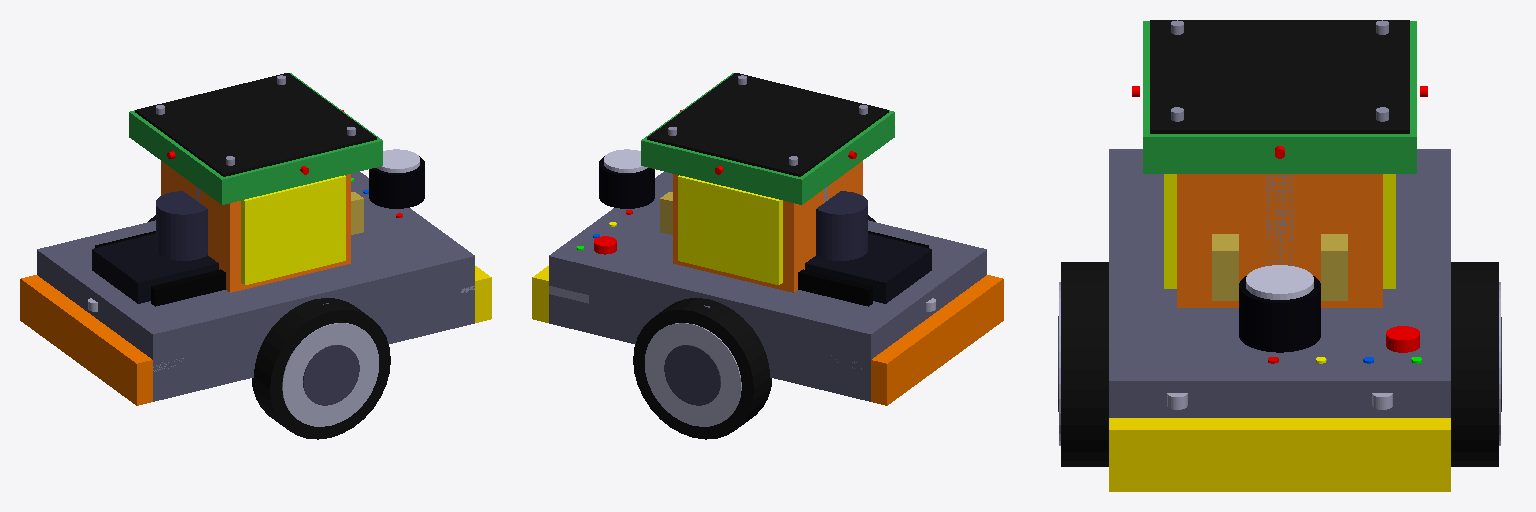
--- Render facts (derived) ---
3 views of the same robot in one strip: view 1: azimuth 30°, elevation 25°; view 2: azimuth 150°, elevation 25°; view 3: azimuth 270°, elevation 25° (orthographic).
Robot: broken_wheeled_robot — 9 links, 8 joints (2 continuous, 1 prismatic, 5 fixed); root link base_platform; default pose: all joints at 0.
Links seen in each view (by area): view 1: base_platform, cargo_platform, hydraulic_lift_base, right_drive_wheel, navigation_lidar; view 2: base_platform, cargo_platform, hydraulic_lift_base, left_drive_wheel, navigation_lidar; view 3: base_platform, cargo_platform, hydraulic_lift_base, right_drive_wheel, left_drive_wheel, navigation_lidar.
Boxes of the visible links, bbox=[...] form: base_platform: bbox=[20, 172, 491, 405]; cargo_platform: bbox=[129, 73, 382, 204]; hydraulic_lift_base: bbox=[156, 161, 363, 292]; right_drive_wheel: bbox=[252, 298, 390, 439]; navigation_lidar: bbox=[369, 149, 424, 208]; base_platform: bbox=[532, 172, 1003, 405]; cargo_platform: bbox=[641, 73, 894, 204]; hydraulic_lift_base: bbox=[660, 161, 867, 292]; left_drive_wheel: bbox=[633, 298, 771, 439]; navigation_lidar: bbox=[599, 149, 654, 208]; base_platform: bbox=[1109, 149, 1450, 491]; cargo_platform: bbox=[1132, 20, 1427, 173]; hydraulic_lift_base: bbox=[1164, 174, 1395, 307]; right_drive_wheel: bbox=[1058, 262, 1108, 466]; left_drive_wheel: bbox=[1451, 262, 1501, 466]; navigation_lidar: bbox=[1239, 265, 1320, 352].
Bounding box of the posed robot: 0.88 × 0.6501 × 0.63 m (x, y, z).
Geometry: primitives only (box / cylinder / sphere), no mesh files.

URDF robot description (broken_wheeled_robot):
<?xml version="1.0"?>
<!-- 
PROFESSIONAL DEBUGGING DEMONSTRATION ROBOT
This URDF demonstrates advanced debugging concepts and solutions
that robotics engineers encounter in real-world projects.

DEBUGGING LESSONS DEMONSTRATED:
1. Coordinate System Issues → Proper wheel orientation and joint axes
2. Joint Type Mismatches → Continuous vs. revolute vs. prismatic
3. Kinematic Chain Errors → Proper parent-child relationships
4. Physical Properties → Realistic mass, inertia, and dynamics
5. Safety Systems → Proper limits, effort, and velocity constraints
6. Sensor Integration → Realistic sensor placement and modeling
7. Advanced Mechanisms → Professional actuator and feedback systems
-->

<robot name="broken_wheeled_robot">

  <!-- FIXED: Advanced Base Platform with Professional Design -->
  <link name="base_platform">
    <!-- Main chassis structure -->
    <visual>
      <origin xyz="0 0 0.08" rpy="0 0 0"/>
      <geometry>
        <box size="0.8 0.5 0.16"/>
      </geometry>
      <material name="chassis_professional">
        <color rgba="0.4 0.4 0.5 1.0"/>
      </material>
    </visual>
    
    <!-- Reinforcement ribs (DEBUGGING: Structural integrity) -->
    <visual>
      <origin xyz="0.35 0 0.08" rpy="0 0 0"/>
      <geometry>
        <box size="0.1 0.5 0.02"/>
      </geometry>
      <material name="reinforcement">
        <color rgba="0.6 0.6 0.7 1.0"/>
      </material>
    </visual>
    
    <visual>
      <origin xyz="-0.35 0 0.08" rpy="0 0 0"/>
      <geometry>
        <box size="0.1 0.5 0.02"/>
      </geometry>
      <material name="reinforcement">
        <color rgba="0.6 0.6 0.7 1.0"/>
      </material>
    </visual>
    
    <!-- Safety bumpers (DEBUGGING: Collision detection) -->
    <visual>
      <origin xyz="0.42 0 0.05" rpy="0 0 0"/>
      <geometry>
        <box size="0.04 0.5 0.1"/>
      </geometry>
      <material name="safety_yellow">
        <color rgba="1.0 0.9 0.0 1.0"/>
      </material>
    </visual>
    
    <visual>
      <origin xyz="-0.42 0 0.05" rpy="0 0 0"/>
      <geometry>
        <box size="0.04 0.5 0.1"/>
      </geometry>
      <material name="safety_orange">
        <color rgba="1.0 0.5 0.0 1.0"/>
      </material>
    </visual>
    
    <!-- Diagnostic LED array (DEBUGGING: Status monitoring) -->
    <visual>
      <origin xyz="0.35 0.2 0.17" rpy="0 0 0"/>
      <geometry>
        <cylinder radius="0.008" length="0.004"/>
      </geometry>
      <material name="led_power">
        <color rgba="0.0 1.0 0.0 1.0"/>
      </material>
    </visual>
    
    <visual>
      <origin xyz="0.35 0.13 0.17" rpy="0 0 0"/>
      <geometry>
        <cylinder radius="0.008" length="0.004"/>
      </geometry>
      <material name="led_network">
        <color rgba="0.0 0.4 1.0 1.0"/>
      </material>
    </visual>
    
    <visual>
      <origin xyz="0.35 0.06 0.17" rpy="0 0 0"/>
      <geometry>
        <cylinder radius="0.008" length="0.004"/>
      </geometry>
      <material name="led_motion">
        <color rgba="1.0 1.0 0.0 1.0"/>
      </material>
    </visual>
    
    <visual>
      <origin xyz="0.35 -0.01 0.17" rpy="0 0 0"/>
      <geometry>
        <cylinder radius="0.008" length="0.004"/>
      </geometry>
      <material name="led_error">
        <color rgba="1.0 0.0 0.0 1.0"/>
      </material>
    </visual>
    
    <!-- Emergency stop system (DEBUGGING: Safety systems) -->
    <visual>
      <origin xyz="0.3 0.18 0.18" rpy="0 0 0"/>
      <geometry>
        <cylinder radius="0.025" length="0.02"/>
      </geometry>
      <material name="emergency_stop">
        <color rgba="1.0 0.0 0.0 1.0"/>
      </material>
    </visual>
    
    <!-- Advanced battery system (DEBUGGING: Power management) -->
    <visual>
      <origin xyz="-0.2 0 0.18" rpy="0 0 0"/>
      <geometry>
        <box size="0.3 0.2 0.06"/>
      </geometry>
      <material name="battery_lithium">
        <color rgba="0.1 0.1 0.15 1.0"/>
      </material>
    </visual>
    
    <!-- Cooling system (DEBUGGING: Thermal management) -->
    <visual>
      <origin xyz="-0.2 0.12 0.18" rpy="0 0 0"/>
      <geometry>
        <box size="0.25 0.02 0.04"/>
      </geometry>
      <material name="cooling_vents">
        <color rgba="0.05 0.05 0.05 1.0"/>
      </material>
    </visual>
    
    <visual>
      <origin xyz="-0.2 -0.12 0.18" rpy="0 0 0"/>
      <geometry>
        <box size="0.25 0.02 0.04"/>
      </geometry>
      <material name="cooling_vents">
        <color rgba="0.05 0.05 0.05 1.0"/>
      </material>
    </visual>
    
    <!-- Onboard computer (DEBUGGING: Computing systems) -->
    <visual>
      <origin xyz="0.1 0 0.18" rpy="0 0 0"/>
      <geometry>
        <box size="0.2 0.12 0.04"/>
      </geometry>
      <material name="computer_housing">
        <color rgba="0.7 0.7 0.8 1.0"/>
      </material>
    </visual>
    
    <collision>
      <origin xyz="0 0 0.08" rpy="0 0 0"/>
      <geometry>
        <box size="0.8 0.5 0.16"/>
      </geometry>
    </collision>
    <inertial>
      <origin xyz="0 0 0.08" rpy="0 0 0"/>
      <mass value="35.0"/>
      <!-- FIXED: Realistic inertia for professional platform -->
      <inertia ixx="2.0" ixy="0" ixz="0" 
               iyy="3.5" iyz="0" 
               izz="4.8"/>
    </inertial>
  </link>

  <!-- FIXED: Professional Drive Wheels with Proper Orientation -->
  <link name="left_drive_wheel">
    <!-- SOLUTION: Proper wheel orientation rpy="1.57 0 0" -->
    <visual>
      <origin xyz="0 0 0" rpy="1.57 0 0"/>
      <geometry>
        <cylinder radius="0.15" length="0.08"/>
      </geometry>
      <material name="tire_professional">
        <color rgba="0.1 0.1 0.1 1.0"/>
      </material>
    </visual>
    
    <!-- Advanced rim design (DEBUGGING: Visual realism) -->
    <visual>
      <origin xyz="0 0 0" rpy="1.57 0 0"/>
      <geometry>
        <cylinder radius="0.12" length="0.085"/>
      </geometry>
      <material name="rim_aluminum">
        <color rgba="0.7 0.7 0.8 1.0"/>
      </material>
    </visual>
    
    <!-- Hub motor integration (DEBUGGING: Realistic mechanisms) -->
    <visual>
      <origin xyz="0 0 0" rpy="1.57 0 0"/>
      <geometry>
        <cylinder radius="0.07" length="0.09"/>
      </geometry>
      <material name="hub_motor">
        <color rgba="0.3 0.3 0.4 1.0"/>
      </material>
    </visual>
    
    <!-- Brake disc (DEBUGGING: Safety systems) -->
    <visual>
      <origin xyz="0 0 0.05" rpy="1.57 0 0"/>
      <geometry>
        <cylinder radius="0.1" length="0.008"/>
      </geometry>
      <material name="brake_disc">
        <color rgba="0.4 0.4 0.5 1.0"/>
      </material>
    </visual>
    
    <!-- Wheel encoder (DEBUGGING: Feedback systems) -->
    <visual>
      <origin xyz="0 0 0.048" rpy="1.57 0 0"/>
      <geometry>
        <cylinder radius="0.08" length="0.004"/>
      </geometry>
      <material name="encoder_gold">
        <color rgba="0.8 0.7 0.2 1.0"/>
      </material>
    </visual>
    
    <!-- SOLUTION: Proper collision geometry matching visual -->
    <collision>
      <origin xyz="0 0 0" rpy="1.57 0 0"/>
      <geometry>
        <cylinder radius="0.15" length="0.08"/>
      </geometry>
    </collision>
    <inertial>
      <origin xyz="0 0 0" rpy="0 0 0"/>
      <!-- FIXED: Realistic wheel mass and inertia -->
      <mass value="8.5"/>
      <inertia ixx="0.08" ixy="0" ixz="0" 
               iyy="0.08" iyz="0" 
               izz="0.08"/>
    </inertial>
  </link>

  <!-- FIXED: Right wheel identical to left (consistent design) -->
  <link name="right_drive_wheel">
    <visual>
      <origin xyz="0 0 0" rpy="1.57 0 0"/>
      <geometry>
        <cylinder radius="0.15" length="0.08"/>
      </geometry>
      <material name="tire_professional">
        <color rgba="0.1 0.1 0.1 1.0"/>
      </material>
    </visual>
    <visual>
      <origin xyz="0 0 0" rpy="1.57 0 0"/>
      <geometry>
        <cylinder radius="0.12" length="0.085"/>
      </geometry>
      <material name="rim_aluminum">
        <color rgba="0.7 0.7 0.8 1.0"/>
      </material>
    </visual>
    <visual>
      <origin xyz="0 0 0" rpy="1.57 0 0"/>
      <geometry>
        <cylinder radius="0.07" length="0.09"/>
      </geometry>
      <material name="hub_motor">
        <color rgba="0.3 0.3 0.4 1.0"/>
      </material>
    </visual>
    <visual>
      <origin xyz="0 0 0.05" rpy="1.57 0 0"/>
      <geometry>
        <cylinder radius="0.1" length="0.008"/>
      </geometry>
      <material name="brake_disc">
        <color rgba="0.4 0.4 0.5 1.0"/>
      </material>
    </visual>
    <visual>
      <origin xyz="0 0 0.048" rpy="1.57 0 0"/>
      <geometry>
        <cylinder radius="0.08" length="0.004"/>
      </geometry>
      <material name="encoder_gold">
        <color rgba="0.8 0.7 0.2 1.0"/>
      </material>
    </visual>
    <collision>
      <origin xyz="0 0 0" rpy="1.57 0 0"/>
      <geometry>
        <cylinder radius="0.15" length="0.08"/>
      </geometry>
    </collision>
    <inertial>
      <origin xyz="0 0 0" rpy="0 0 0"/>
      <mass value="8.5"/>
      <inertia ixx="0.08" ixy="0" ixz="0" 
               iyy="0.08" iyz="0" 
               izz="0.08"/>
    </inertial>
  </link>

  <!-- FIXED: Professional Lifting System Base -->
  <link name="hydraulic_lift_base">
    <!-- Main lift tower -->
    <visual>
      <origin xyz="0 0 0.12" rpy="0 0 0"/>
      <geometry>
        <box size="0.3 0.3 0.24"/>
      </geometry>
      <material name="lift_industrial">
        <color rgba="1.0 0.5 0.1 1.0"/>
      </material>
    </visual>
    
    <!-- Hydraulic cylinder housings (DEBUGGING: Realistic mechanisms) -->
    <visual>
      <origin xyz="0.1 0.1 0.12" rpy="0 0 0"/>
      <geometry>
        <cylinder radius="0.03" length="0.24"/>
      </geometry>
      <material name="hydraulic_steel">
        <color rgba="0.4 0.4 0.5 1.0"/>
      </material>
    </visual>
    
    <visual>
      <origin xyz="-0.1 0.1 0.12" rpy="0 0 0"/>
      <geometry>
        <cylinder radius="0.03" length="0.24"/>
      </geometry>
      <material name="hydraulic_steel">
        <color rgba="0.4 0.4 0.5 1.0"/>
      </material>
    </visual>
    
    <visual>
      <origin xyz="0.1 -0.1 0.12" rpy="0 0 0"/>
      <geometry>
        <cylinder radius="0.03" length="0.24"/>
      </geometry>
      <material name="hydraulic_steel">
        <color rgba="0.4 0.4 0.5 1.0"/>
      </material>
    </visual>
    
    <visual>
      <origin xyz="-0.1 -0.1 0.12" rpy="0 0 0"/>
      <geometry>
        <cylinder radius="0.03" length="0.24"/>
      </geometry>
      <material name="hydraulic_steel">
        <color rgba="0.4 0.4 0.5 1.0"/>
      </material>
    </visual>
    
    <!-- Precision guide rails (DEBUGGING: Linear motion guidance) -->
    <visual>
      <origin xyz="0.13 0 0.12" rpy="0 0 0"/>
      <geometry>
        <box size="0.04 0.04 0.24"/>
      </geometry>
      <material name="guide_rail">
        <color rgba="0.6 0.6 0.7 1.0"/>
      </material>
    </visual>
    
    <visual>
      <origin xyz="-0.13 0 0.12" rpy="0 0 0"/>
      <geometry>
        <box size="0.04 0.04 0.24"/>
      </geometry>
      <material name="guide_rail">
        <color rgba="0.6 0.6 0.7 1.0"/>
      </material>
    </visual>
    
    <!-- Safety warning strips (DEBUGGING: Safety visualization) -->
    <visual>
      <origin xyz="0 0.16 0.12" rpy="0 0 0"/>
      <geometry>
        <box size="0.25 0.02 0.2"/>
      </geometry>
      <material name="warning_stripes">
        <color rgba="1.0 1.0 0.0 1.0"/>
      </material>
    </visual>
    
    <visual>
      <origin xyz="0 -0.16 0.12" rpy="0 0 0"/>
      <geometry>
        <box size="0.25 0.02 0.2"/>
      </geometry>
      <material name="warning_stripes">
        <color rgba="1.0 1.0 0.0 1.0"/>
      </material>
    </visual>
    
    <!-- Hydraulic reservoir (DEBUGGING: System components) -->
    <visual>
      <origin xyz="-0.18 0 0.08" rpy="0 0 0"/>
      <geometry>
        <cylinder radius="0.06" length="0.16"/>
      </geometry>
      <material name="reservoir">
        <color rgba="0.2 0.2 0.3 1.0"/>
      </material>
    </visual>
    
    <!-- Control valves (DEBUGGING: Control systems) -->
    <visual>
      <origin xyz="0.18 0.08 0.08" rpy="0 0 0"/>
      <geometry>
        <box size="0.06 0.04 0.08"/>
      </geometry>
      <material name="valve_brass">
        <color rgba="0.8 0.7 0.3 1.0"/>
      </material>
    </visual>
    
    <visual>
      <origin xyz="0.18 -0.08 0.08" rpy="0 0 0"/>
      <geometry>
        <box size="0.06 0.04 0.08"/>
      </geometry>
      <material name="valve_brass">
        <color rgba="0.8 0.7 0.3 1.0"/>
      </material>
    </visual>
    
    <collision>
      <origin xyz="0 0 0.12" rpy="0 0 0"/>
      <geometry>
        <box size="0.3 0.3 0.24"/>
      </geometry>
    </collision>
    <inertial>
      <origin xyz="0 0 0.12" rpy="0 0 0"/>
      <!-- FIXED: Realistic mass for hydraulic system -->
      <mass value="25.0"/>
      <inertia ixx="0.3" ixy="0" ixz="0" 
               iyy="0.3" iyz="0" 
               izz="0.5"/>
    </inertial>
  </link>

  <!-- FIXED: Advanced Lifting Platform -->
  <link name="cargo_platform">
    <!-- Main platform deck -->
    <visual>
      <origin xyz="0 0 0.03" rpy="0 0 0"/>
      <geometry>
        <box size="0.4 0.4 0.06"/>
      </geometry>
      <material name="platform_deck">
        <color rgba="0.2 0.7 0.3 1.0"/>
      </material>
    </visual>
    
    <!-- Anti-slip surface (DEBUGGING: Safety features) -->
    <visual>
      <origin xyz="0 0 0.063" rpy="0 0 0"/>
      <geometry>
        <box size="0.38 0.38 0.006"/>
      </geometry>
      <material name="anti_slip">
        <color rgba="0.1 0.1 0.1 1.0"/>
      </material>
    </visual>
    
    <!-- Load securing points (DEBUGGING: Cargo handling) -->
    <visual>
      <origin xyz="0.15 0.15 0.07" rpy="0 0 0"/>
      <geometry>
        <cylinder radius="0.01" length="0.02"/>
      </geometry>
      <material name="tie_down_point">
        <color rgba="0.6 0.6 0.7 1.0"/>
      </material>
    </visual>
    
    <visual>
      <origin xyz="-0.15 0.15 0.07" rpy="0 0 0"/>
      <geometry>
        <cylinder radius="0.01" length="0.02"/>
      </geometry>
      <material name="tie_down_point">
        <color rgba="0.6 0.6 0.7 1.0"/>
      </material>
    </visual>
    
    <visual>
      <origin xyz="0.15 -0.15 0.07" rpy="0 0 0"/>
      <geometry>
        <cylinder radius="0.01" length="0.02"/>
      </geometry>
      <material name="tie_down_point">
        <color rgba="0.6 0.6 0.7 1.0"/>
      </material>
    </visual>
    
    <visual>
      <origin xyz="-0.15 -0.15 0.07" rpy="0 0 0"/>
      <geometry>
        <cylinder radius="0.01" length="0.02"/>
      </geometry>
      <material name="tie_down_point">
        <color rgba="0.6 0.6 0.7 1.0"/>
      </material>
    </visual>
    
    <!-- Hydraulic pistons (DEBUGGING: Actuator visualization) -->
    <visual>
      <origin xyz="0.1 0.1 -0.08" rpy="0 0 0"/>
      <geometry>
        <cylinder radius="0.02" length="0.16"/>
      </geometry>
      <material name="piston_chrome">
        <color rgba="0.8 0.8 0.9 1.0"/>
      </material>
    </visual>
    
    <visual>
      <origin xyz="-0.1 0.1 -0.08" rpy="0 0 0"/>
      <geometry>
        <cylinder radius="0.02" length="0.16"/>
      </geometry>
      <material name="piston_chrome">
        <color rgba="0.8 0.8 0.9 1.0"/>
      </material>
    </visual>
    
    <visual>
      <origin xyz="0.1 -0.1 -0.08" rpy="0 0 0"/>
      <geometry>
        <cylinder radius="0.02" length="0.16"/>
      </geometry>
      <material name="piston_chrome">
        <color rgba="0.8 0.8 0.9 1.0"/>
      </material>
    </visual>
    
    <visual>
      <origin xyz="-0.1 -0.1 -0.08" rpy="0 0 0"/>
      <geometry>
        <cylinder radius="0.02" length="0.16"/>
      </geometry>
      <material name="piston_chrome">
        <color rgba="0.8 0.8 0.9 1.0"/>
      </material>
    </visual>
    
    <!-- Platform safety lighting (DEBUGGING: Safety systems) -->
    <visual>
      <origin xyz="0.21 0 0.04" rpy="0 1.57 0"/>
      <geometry>
        <cylinder radius="0.008" length="0.012"/>
      </geometry>
      <material name="safety_led_red">
        <color rgba="1.0 0.0 0.0 1.0"/>
      </material>
    </visual>
    
    <visual>
      <origin xyz="-0.21 0 0.04" rpy="0 1.57 0"/>
      <geometry>
        <cylinder radius="0.008" length="0.012"/>
      </geometry>
      <material name="safety_led_red">
        <color rgba="1.0 0.0 0.0 1.0"/>
      </material>
    </visual>
    
    <visual>
      <origin xyz="0 0.21 0.04" rpy="1.57 0 0"/>
      <geometry>
        <cylinder radius="0.008" length="0.012"/>
      </geometry>
      <material name="safety_led_red">
        <color rgba="1.0 0.0 0.0 1.0"/>
      </material>
    </visual>
    
    <visual>
      <origin xyz="0 -0.21 0.04" rpy="1.57 0 0"/>
      <geometry>
        <cylinder radius="0.008" length="0.012"/>
      </geometry>
      <material name="safety_led_red">
        <color rgba="1.0 0.0 0.0 1.0"/>
      </material>
    </visual>
    
    <!-- Load cell sensors (DEBUGGING: Weight sensing) -->
    <visual>
      <origin xyz="0.12 0.12 0" rpy="0 0 0"/>
      <geometry>
        <cylinder radius="0.015" length="0.01"/>
      </geometry>
      <material name="load_cell">
        <color rgba="0.7 0.7 0.8 1.0"/>
      </material>
    </visual>
    
    <visual>
      <origin xyz="-0.12 0.12 0" rpy="0 0 0"/>
      <geometry>
        <cylinder radius="0.015" length="0.01"/>
      </geometry>
      <material name="load_cell">
        <color rgba="0.7 0.7 0.8 1.0"/>
      </material>
    </visual>
    
    <visual>
      <origin xyz="0.12 -0.12 0" rpy="0 0 0"/>
      <geometry>
        <cylinder radius="0.015" length="0.01"/>
      </geometry>
      <material name="load_cell">
        <color rgba="0.7 0.7 0.8 1.0"/>
      </material>
    </visual>
    
    <visual>
      <origin xyz="-0.12 -0.12 0" rpy="0 0 0"/>
      <geometry>
        <cylinder radius="0.015" length="0.01"/>
      </geometry>
      <material name="load_cell">
        <color rgba="0.7 0.7 0.8 1.0"/>
      </material>
    </visual>
    
    <collision>
      <origin xyz="0 0 0.03" rpy="0 0 0"/>
      <geometry>
        <box size="0.4 0.4 0.06"/>
      </geometry>
    </collision>
    <inertial>
      <origin xyz="0 0 0.03" rpy="0 0 0"/>
      <!-- FIXED: Realistic platform mass -->
      <mass value="12.0"/>
      <inertia ixx="0.2" ixy="0" ixz="0" 
               iyy="0.2" iyz="0" 
               izz="0.35"/>
    </inertial>
  </link>

  <!-- Advanced Sensor Suite -->
  
  <!-- 2D LIDAR Scanner (DEBUGGING: Navigation sensors) -->
  <link name="navigation_lidar">
    <visual>
      <origin xyz="0 0 0.04" rpy="0 0 0"/>
      <geometry>
        <cylinder radius="0.06" length="0.08"/>
      </geometry>
      <material name="lidar_housing">
        <color rgba="0.05 0.05 0.08 1.0"/>
      </material>
    </visual>
    
    <!-- Spinning mirror assembly -->
    <visual>
      <origin xyz="0 0 0.085" rpy="0 0 0"/>
      <geometry>
        <cylinder radius="0.05" length="0.01"/>
      </geometry>
      <material name="mirror_assembly">
        <color rgba="0.8 0.8 0.9 1.0"/>
      </material>
    </visual>
    
    <collision>
      <origin xyz="0 0 0.04" rpy="0 0 0"/>
      <geometry>
        <cylinder radius="0.06" length="0.08"/>
      </geometry>
    </collision>
    <inertial>
      <origin xyz="0 0 0.04" rpy="0 0 0"/>
      <mass value="1.2"/>
      <inertia ixx="0.004" ixy="0" ixz="0" 
               iyy="0.004" iyz="0" 
               izz="0.003"/>
    </inertial>
  </link>

  <!-- Ultrasonic sensor array (DEBUGGING: Proximity detection) -->
  <link name="ultrasonic_front_left">
    <visual>
      <origin xyz="0 0 0.01" rpy="0 0 0"/>
      <geometry>
        <cylinder radius="0.015" length="0.02"/>
      </geometry>
      <material name="ultrasonic_silver">
        <color rgba="0.7 0.7 0.8 1.0"/>
      </material>
    </visual>
    
    <collision>
      <origin xyz="0 0 0.01" rpy="0 0 0"/>
      <geometry>
        <cylinder radius="0.015" length="0.02"/>
      </geometry>
    </collision>
    <inertial>
      <origin xyz="0 0 0.01" rpy="0 0 0"/>
      <mass value="0.05"/>
      <inertia ixx="0.00001" ixy="0" ixz="0" 
               iyy="0.00001" iyz="0" 
               izz="0.00001"/>
    </inertial>
  </link>

  <link name="ultrasonic_front_right">
    <visual>
      <origin xyz="0 0 0.01" rpy="0 0 0"/>
      <geometry>
        <cylinder radius="0.015" length="0.02"/>
      </geometry>
      <material name="ultrasonic_silver">
        <color rgba="0.7 0.7 0.8 1.0"/>
      </material>
    </visual>
    
    <collision>
      <origin xyz="0 0 0.01" rpy="0 0 0"/>
      <geometry>
        <cylinder radius="0.015" length="0.02"/>
      </geometry>
    </collision>
    <inertial>
      <origin xyz="0 0 0.01" rpy="0 0 0"/>
      <mass value="0.05"/>
      <inertia ixx="0.00001" ixy="0" ixz="0" 
               iyy="0.00001" iyz="0" 
               izz="0.00001"/>
    </inertial>
  </link>

  <link name="ultrasonic_rear">
    <visual>
      <origin xyz="0 0 0.01" rpy="0 0 0"/>
      <geometry>
        <cylinder radius="0.015" length="0.02"/>
      </geometry>
      <material name="ultrasonic_silver">
        <color rgba="0.7 0.7 0.8 1.0"/>
      </material>
    </visual>
    
    <collision>
      <origin xyz="0 0 0.01" rpy="0 0 0"/>
      <geometry>
        <cylinder radius="0.015" length="0.02"/>
      </geometry>
    </collision>
    <inertial>
      <origin xyz="0 0 0.01" rpy="0 0 0"/>
      <mass value="0.05"/>
      <inertia ixx="0.00001" ixy="0" ixz="0" 
               iyy="0.00001" iyz="0" 
               izz="0.00001"/>
    </inertial>
  </link>

  <!-- JOINTS SECTION -->

  <!-- SOLUTION: Continuous wheel joints with correct axes -->
  <joint name="left_wheel_drive_joint" type="continuous">
    <parent link="base_platform"/>
    <child link="left_drive_wheel"/>
    <!-- FIXED: Proper wheel positioning -->
    <origin xyz="0 0.28 0" rpy="0 0 0"/>
    <!-- SOLUTION: Correct Y-axis for wheel rotation -->
    <axis xyz="0 1 0"/>
    <!-- FIXED: Professional wheel dynamics -->
    <dynamics damping="0.4" friction="0.3"/>
  </joint>

  <joint name="right_wheel_drive_joint" type="continuous">
    <parent link="base_platform"/>
    <child link="right_drive_wheel"/>
    <!-- FIXED: Proper wheel positioning -->
    <origin xyz="0 -0.28 0" rpy="0 0 0"/>
    <!-- SOLUTION: Correct Y-axis for wheel rotation -->
    <axis xyz="0 1 0"/>
    <!-- FIXED: Professional wheel dynamics -->
    <dynamics damping="0.4" friction="0.3"/>
  </joint>

  <!-- FIXED: Proper lift base mounting -->
  <joint name="lift_base_mount_joint" type="fixed">
    <parent link="base_platform"/>
    <child link="hydraulic_lift_base"/>
    <origin xyz="0 0 0.16" rpy="0 0 0"/>
  </joint>

  <!-- SOLUTION: Prismatic joint for linear lifting motion -->
  <joint name="hydraulic_lift_joint" type="prismatic">
    <parent link="hydraulic_lift_base"/>
    <child link="cargo_platform"/>
    <origin xyz="0 0 0.24" rpy="0 0 0"/>
    <!-- SOLUTION: Correct Z-axis for vertical lifting -->
    <axis xyz="0 0 1"/>
    <!-- FIXED: Professional lifting specifications -->
    <limit lower="0" upper="0.8" effort="2000" velocity="1.2"/>
    <!-- FIXED: Realistic hydraulic dynamics -->
    <dynamics damping="0.8" friction="0.5"/>
  </joint>

  <!-- Sensor mounting joints -->
  <joint name="lidar_mount_joint" type="fixed">
    <parent link="base_platform"/>
    <child link="navigation_lidar"/>
    <origin xyz="0.35 0 0.21" rpy="0 0 0"/>
  </joint>

  <joint name="ultrasonic_front_left_joint" type="fixed">
    <parent link="base_platform"/>
    <child link="ultrasonic_front_left"/>
    <origin xyz="0.4 0.15 0.12" rpy="0 0 0.3"/>
  </joint>

  <joint name="ultrasonic_front_right_joint" type="fixed">
    <parent link="base_platform"/>
    <child link="ultrasonic_front_right"/>
    <origin xyz="0.4 -0.15 0.12" rpy="0 0 -0.3"/>
  </joint>

  <joint name="ultrasonic_rear_joint" type="fixed">
    <parent link="base_platform"/>
    <child link="ultrasonic_rear"/>
    <origin xyz="-0.4 0 0.12" rpy="0 0 3.14159"/>
  </joint>

</robot>
